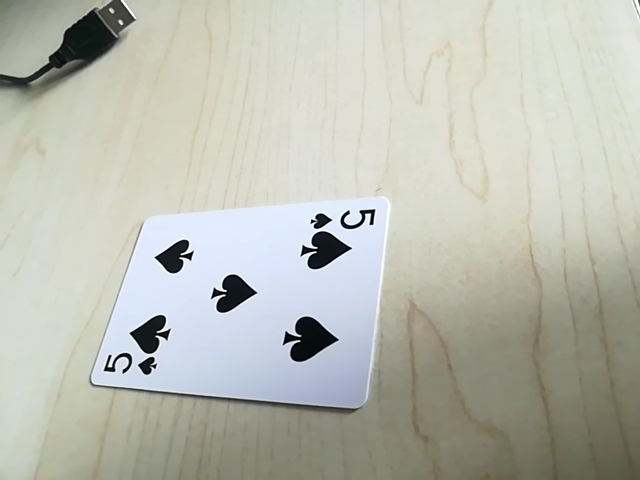ht 5: (95, 347, 166, 383), (308, 201, 377, 233)
